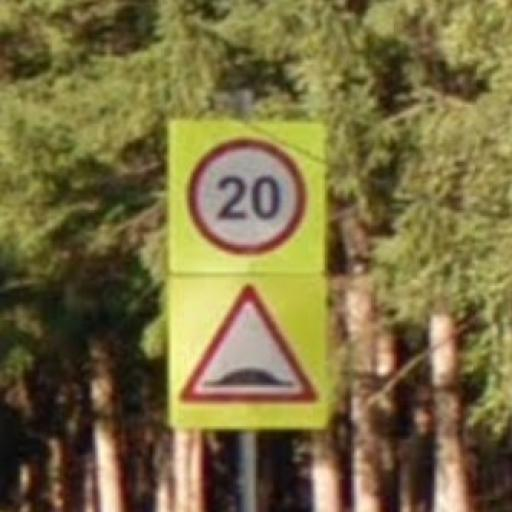traffic_sign: (177, 283, 323, 408), (185, 137, 312, 259)
